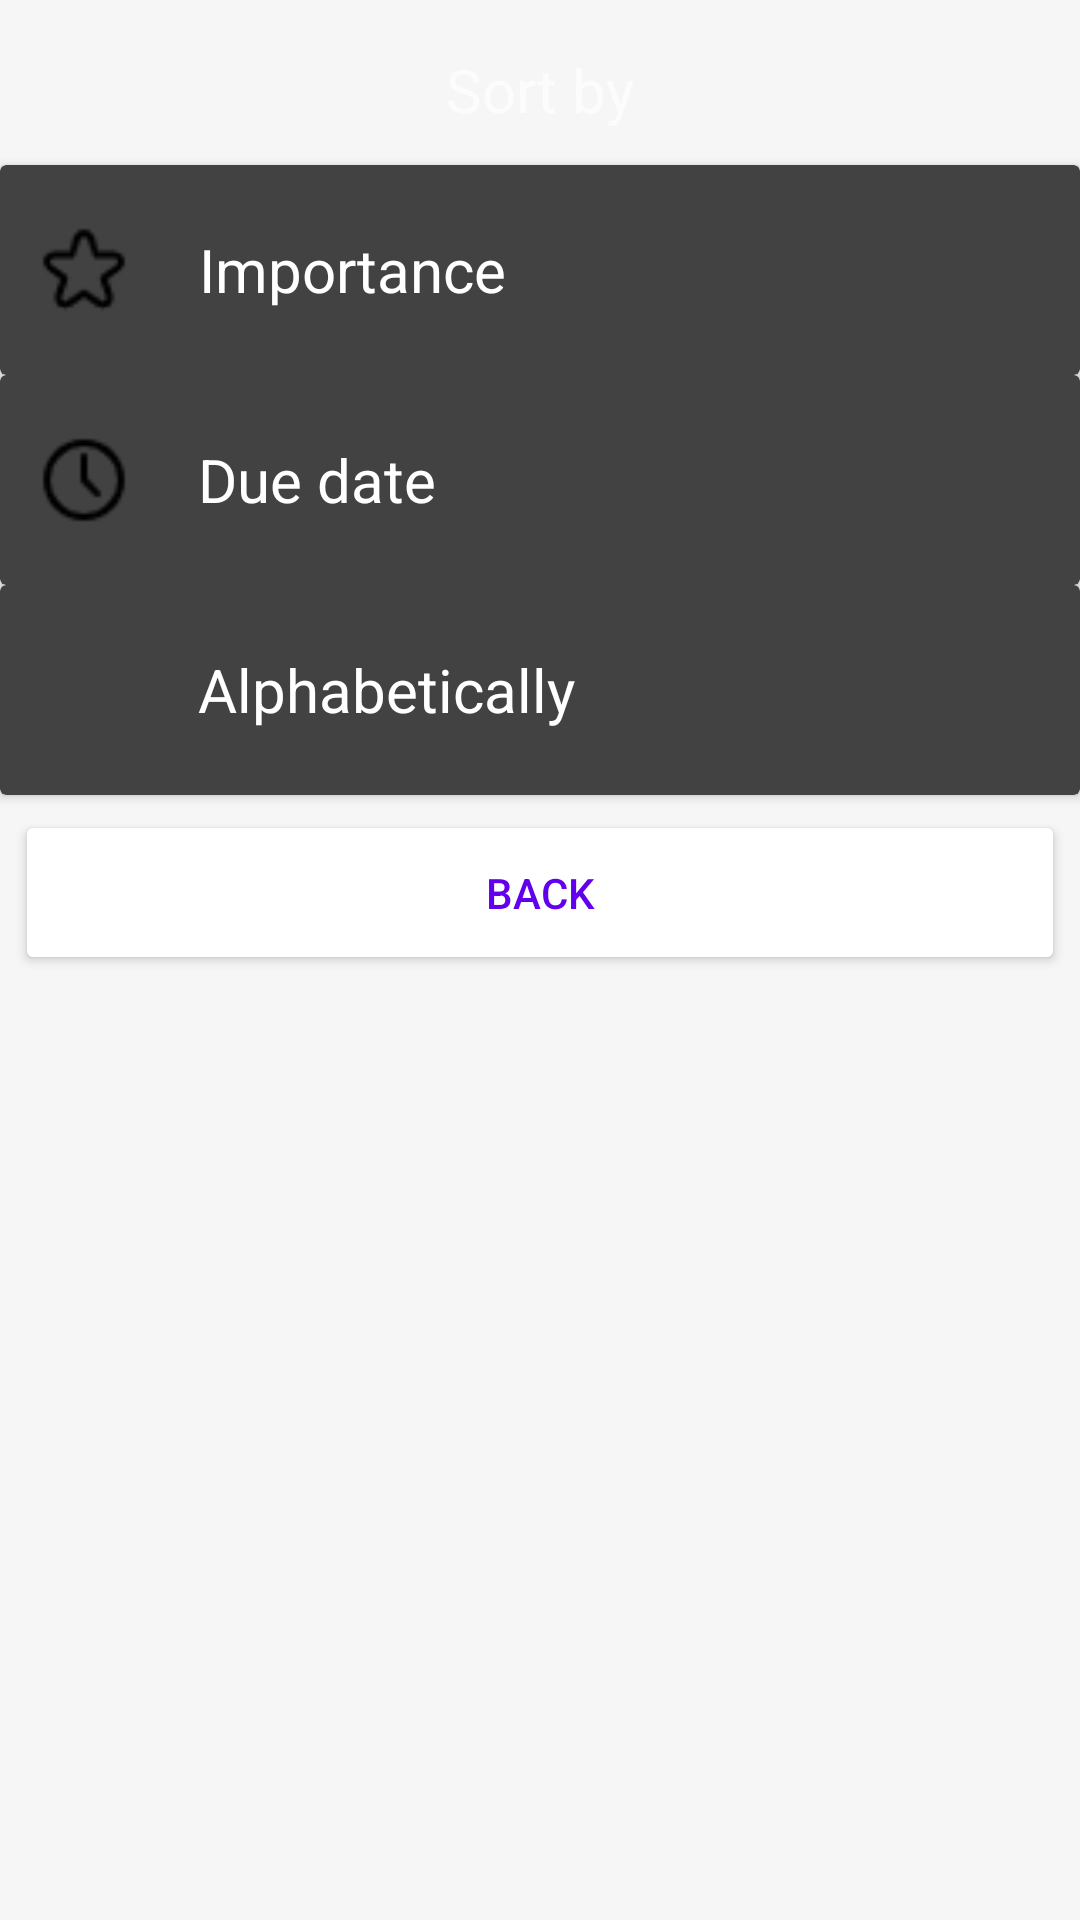

Point at icon controls on the screen. Image size 1080px×1920px, points as [x,y].
clock: [84,480]
star: [84,268]
